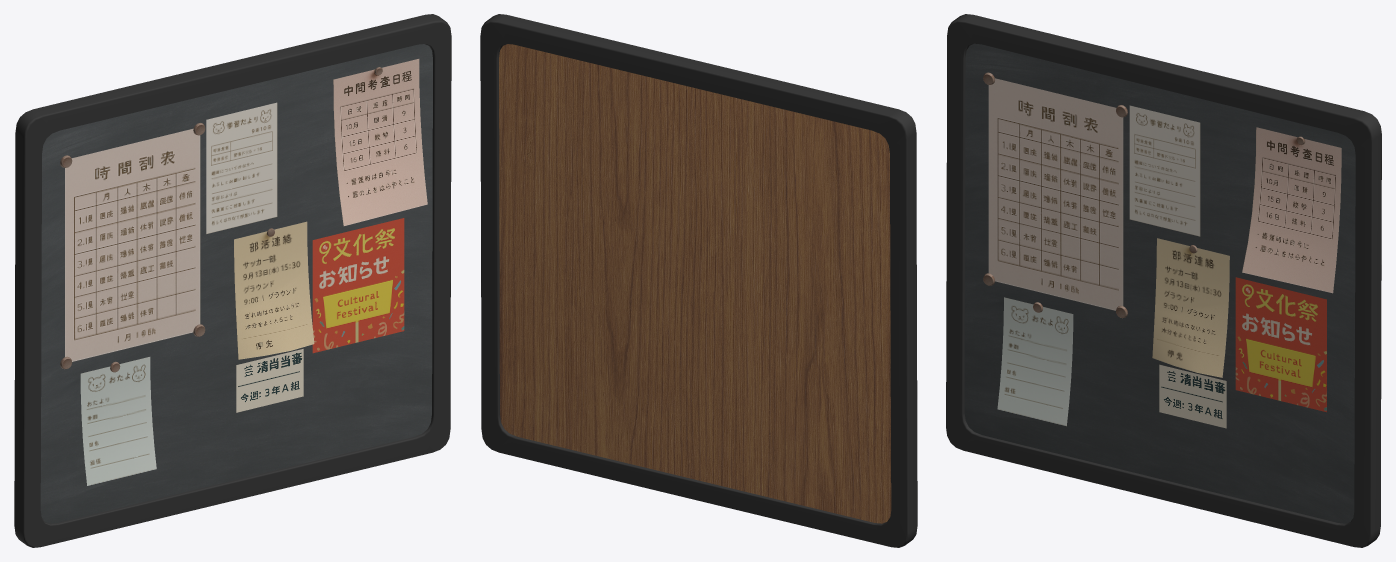
Rendered from SM_pinboard_03.fbx.
The picture shows the model from 3 angles, left to right: view 1: azimuth 30°, elevation 25°; view 2: azimuth 150°, elevation 25°; view 3: azimuth 330°, elevation 25°; orthographic projection.
Visible parts, largest first — view 1: pinboard003; view 2: pinboard003; view 3: pinboard003.
Boxes of the visible parts, x1,y1,x2,y2 form: pinboard003: (14,14,451,547); pinboard003: (480,14,917,547); pinboard003: (946,14,1381,547).
Size of the model in its own units: 58.05 by 55.99 by 5.06.
Materials: 5 (4 with a texture image).
